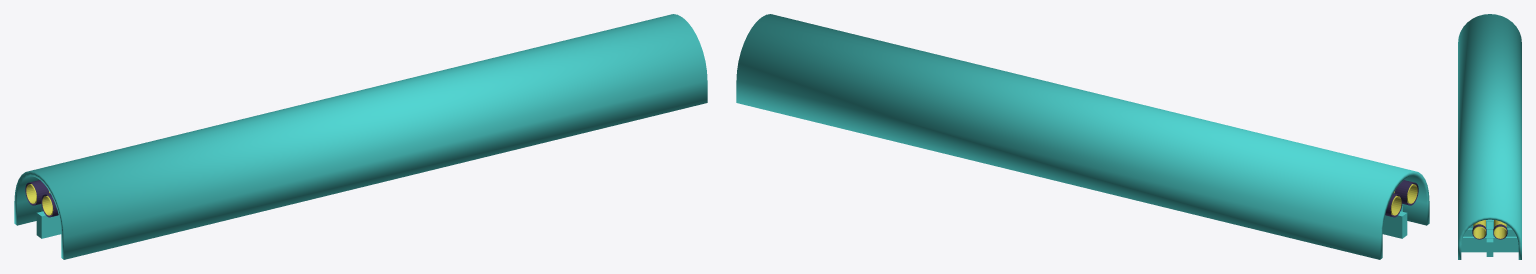
Rendered from fluorescente.fbx.
3 renders of one model, left to right at view 1: azimuth 30°, elevation 25°; view 2: azimuth 150°, elevation 25°; view 3: azimuth 270°, elevation 25°, orthographic. The views are drawn at different scales.
Visible parts, largest first — view 1: Carcasa, Fluorescente, RejillaGrande; view 2: Carcasa, Fluorescente, RejillaGrande; view 3: Carcasa, RejillaPeque_a, Fluorescente, RejillaGrande.
Part boxes in pixels (box(x1,y1,x2,y2)): Carcasa: box(14, 14, 707, 259); Fluorescente: box(25, 180, 58, 217); RejillaGrande: box(36, 211, 61, 238); Carcasa: box(736, 14, 1429, 259); Fluorescente: box(1385, 180, 1418, 217); RejillaGrande: box(1382, 211, 1407, 238); Carcasa: box(1458, 14, 1521, 259); RejillaPeque_a: box(1461, 220, 1518, 252); Fluorescente: box(1472, 220, 1507, 239); RejillaGrande: box(1486, 219, 1493, 256).
Bounding box in the file's own units: 1.5 × 0.15 × 0.2.
